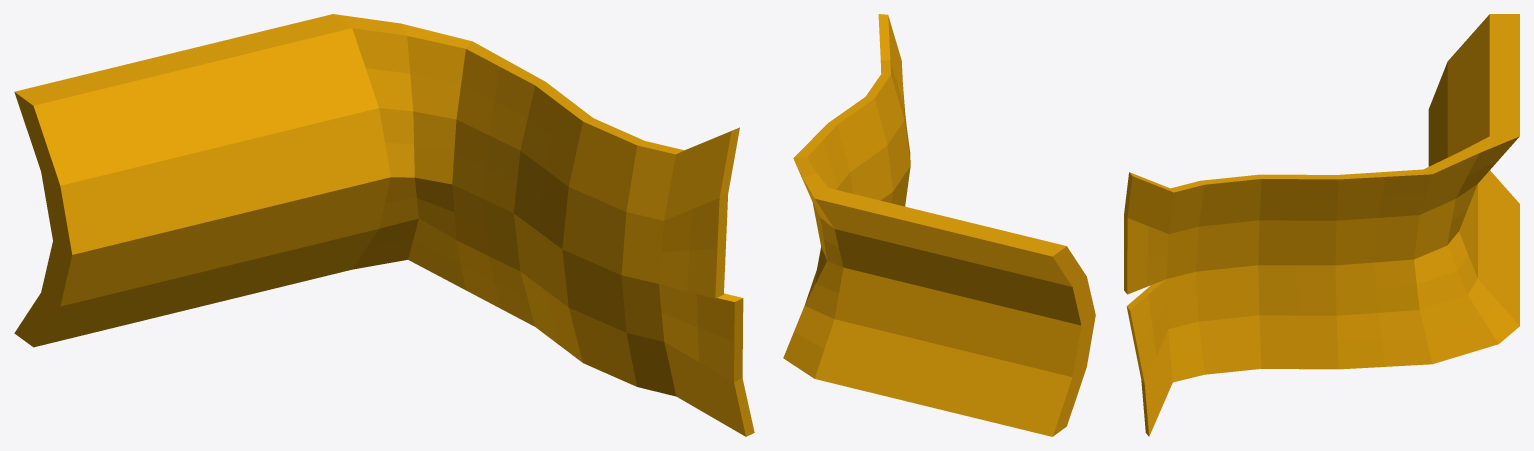
The model's file is LavaFall.fbx.
3 views of the same model, side by side, from view 1: azimuth 30°, elevation 25°; view 2: azimuth 150°, elevation 25°; view 3: azimuth 270°, elevation 25° (orthographic). The views are drawn at different scales.
Visible parts, largest first — view 1: LavaCascate.001; view 2: LavaCascate.001; view 3: LavaCascate.001.
Boxes of the visible parts, x1,y1,x2,y2 form: LavaCascate.001: (14,14,754,436); LavaCascate.001: (783,14,1095,436); LavaCascate.001: (1124,14,1519,436).
Bounding box in the file's own units: 830 × 502 × 717.
